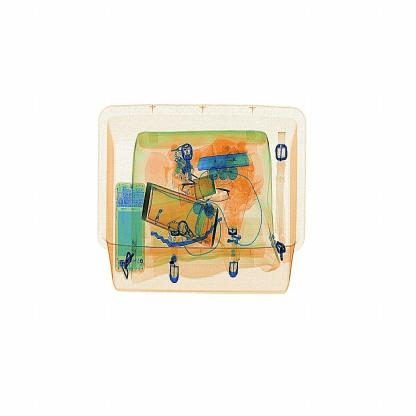pliers: (194, 150, 259, 176)
